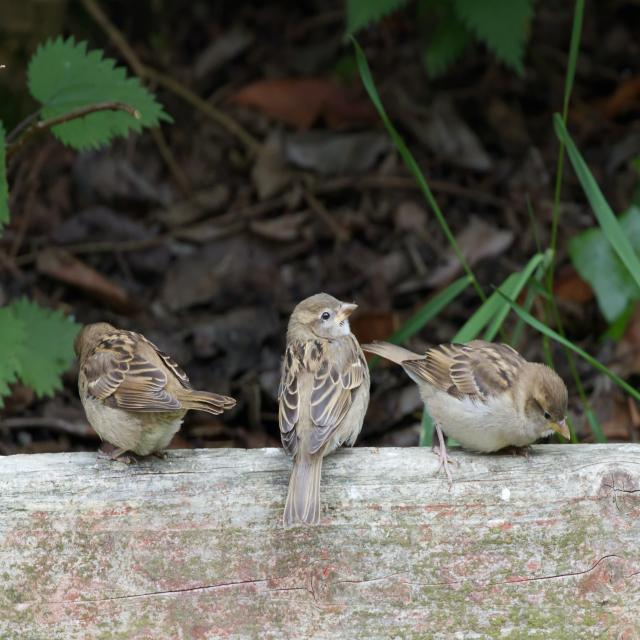brid: (237, 286, 402, 521), (388, 271, 576, 477), (47, 282, 217, 481)
